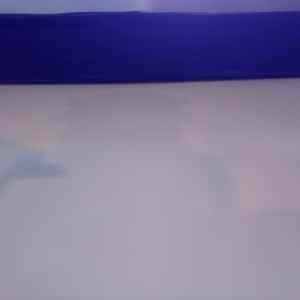zone: (182, 15, 300, 72)
